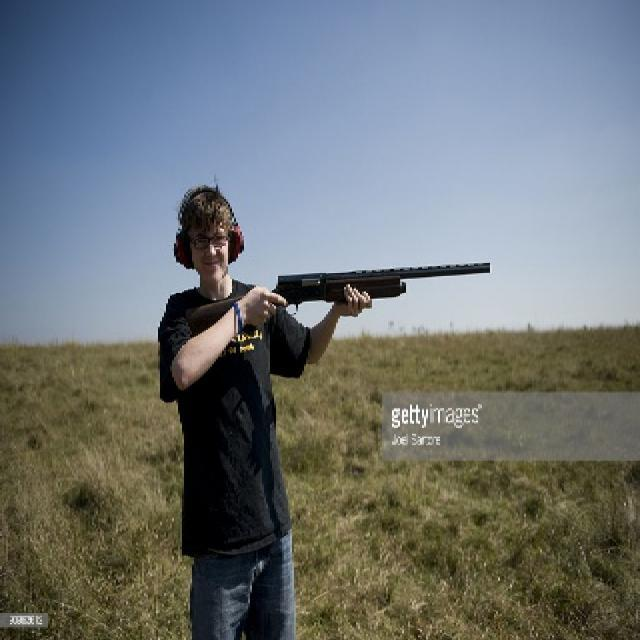weapon: (186, 253, 496, 322)
